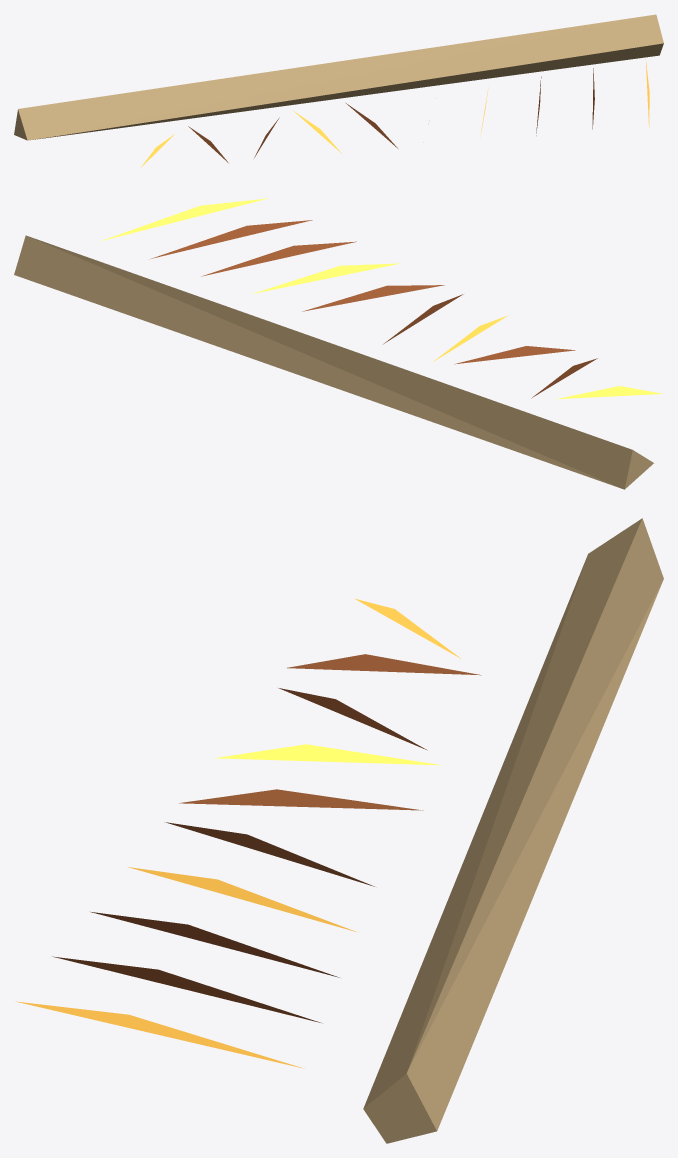
Rendered from wing_l_lod2.glb.
3 renders of one model, top to bottom at view 1: azimuth 30°, elevation 25°; view 2: azimuth 150°, elevation 25°; view 3: azimuth 270°, elevation 25°, orthographic. The views are drawn at different scales.
Parts seen in each view (by area): view 1: phoenix_wing_l_LOD2; view 2: phoenix_wing_l_LOD2; view 3: phoenix_wing_l_LOD2.
Boxes of the visible parts, x1,y1,x2,y2 form: phoenix_wing_l_LOD2: [14, 14, 663, 168]; phoenix_wing_l_LOD2: [14, 198, 662, 489]; phoenix_wing_l_LOD2: [16, 518, 663, 1143].
Size of the model in its own units: 5.76 by 0.3695 by 2.84.
